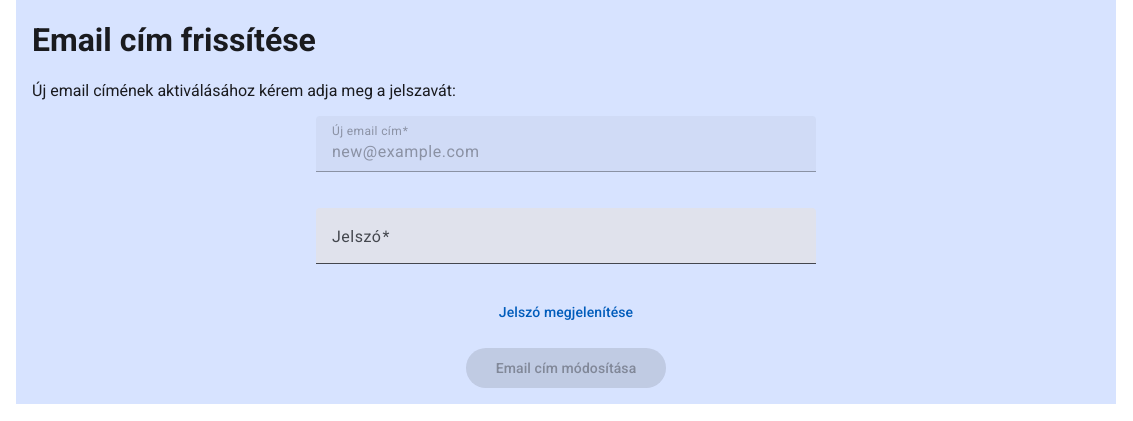
Test: ProfileUpdateEmailComponent › form validation › shows error for invalid password
Type "short" into the password field labelled "Jelszó". click: (566, 244)
box: [332,232,800,256]
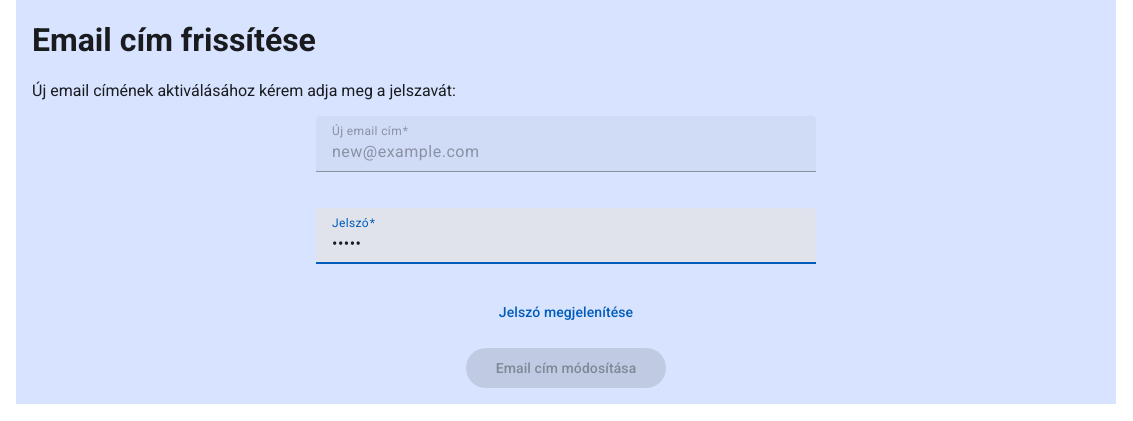
Press Tab
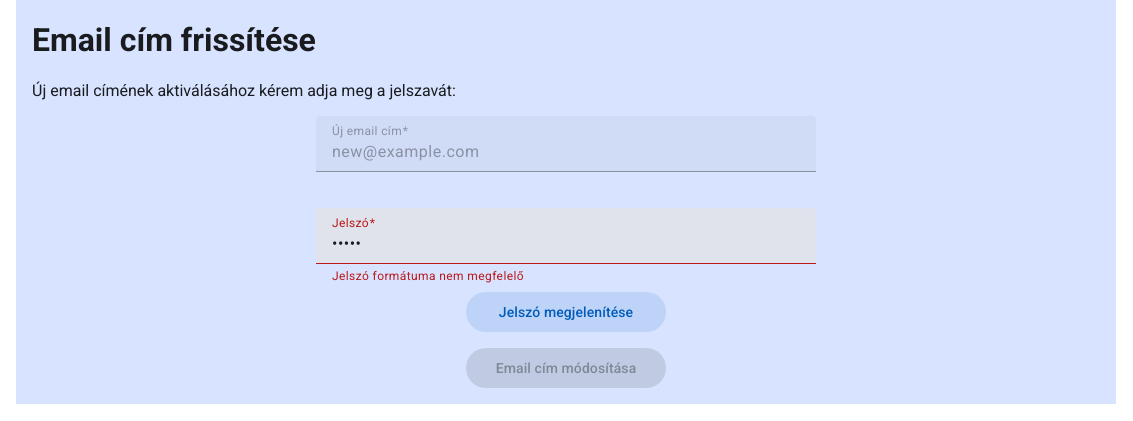
Check: the text "Jelszó formátuma nem megfelelő" is shown, box [332,269,524,283]
